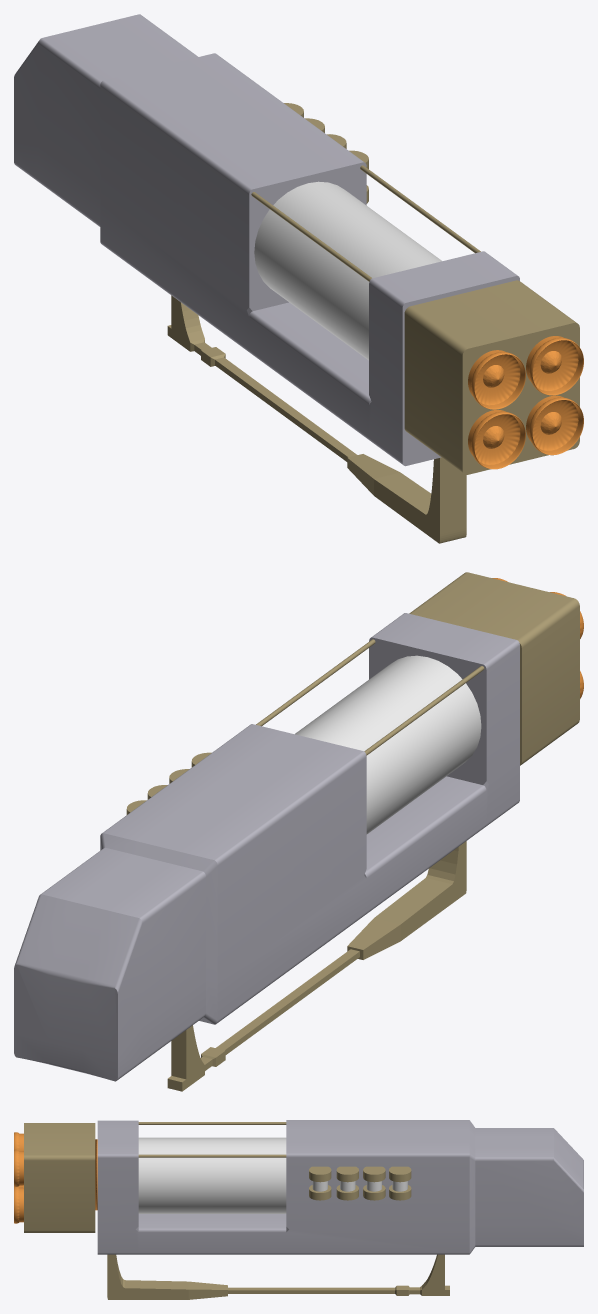
Rendered from Shotgun.fbx.
The picture shows the model from 3 angles, top to bottom: view 1: azimuth 30°, elevation 25°; view 2: azimuth 150°, elevation 25°; view 3: azimuth 270°, elevation 25°; orthographic projection. The views are drawn at different scales.
Visible parts, largest first — view 1: Cube.010, Cube.012, Cylinder.006, Cylinder.007, Cube.011, Cylinder.008; view 2: Cube.010, Cylinder.006, Cube.012, Cube.011, Cylinder.008; view 3: Cube.010, Cylinder.006, Cube.012, Cube.011, Cylinder.008, Cylinder.007, Cube.016, Cube.014, Cube.015, Cube.013.
Boxes of the visible parts, x1,y1,x2,y2 form: Cube.010: [14, 14, 519, 466]; Cube.012: [404, 280, 579, 474]; Cylinder.006: [254, 181, 442, 360]; Cylinder.007: [468, 336, 583, 469]; Cube.011: [167, 295, 466, 543]; Cylinder.008: [251, 165, 480, 281]; Cube.010: [14, 613, 519, 1081]; Cylinder.006: [295, 655, 481, 834]; Cube.012: [409, 572, 579, 765]; Cube.011: [167, 841, 466, 1091]; Cylinder.008: [256, 639, 484, 755]; Cube.010: [97, 1120, 583, 1254]; Cylinder.006: [138, 1137, 286, 1213]; Cube.012: [24, 1123, 95, 1232]; Cube.011: [107, 1254, 449, 1299]; Cylinder.008: [138, 1122, 286, 1157]; Cylinder.007: [14, 1132, 23, 1223]; Cube.016: [363, 1166, 385, 1200]; Cube.014: [336, 1166, 358, 1200]; Cube.015: [389, 1166, 411, 1200]; Cube.013: [309, 1166, 331, 1200].
Bounding box in the file's own units: 2.99 × 0.5392 × 0.922.
